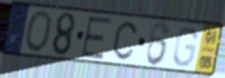6: (145, 20, 171, 68)
8: (51, 11, 77, 58)
C: (112, 20, 138, 62)
E: (79, 15, 114, 60)
G: (171, 26, 199, 69)
O: (23, 9, 53, 54)
